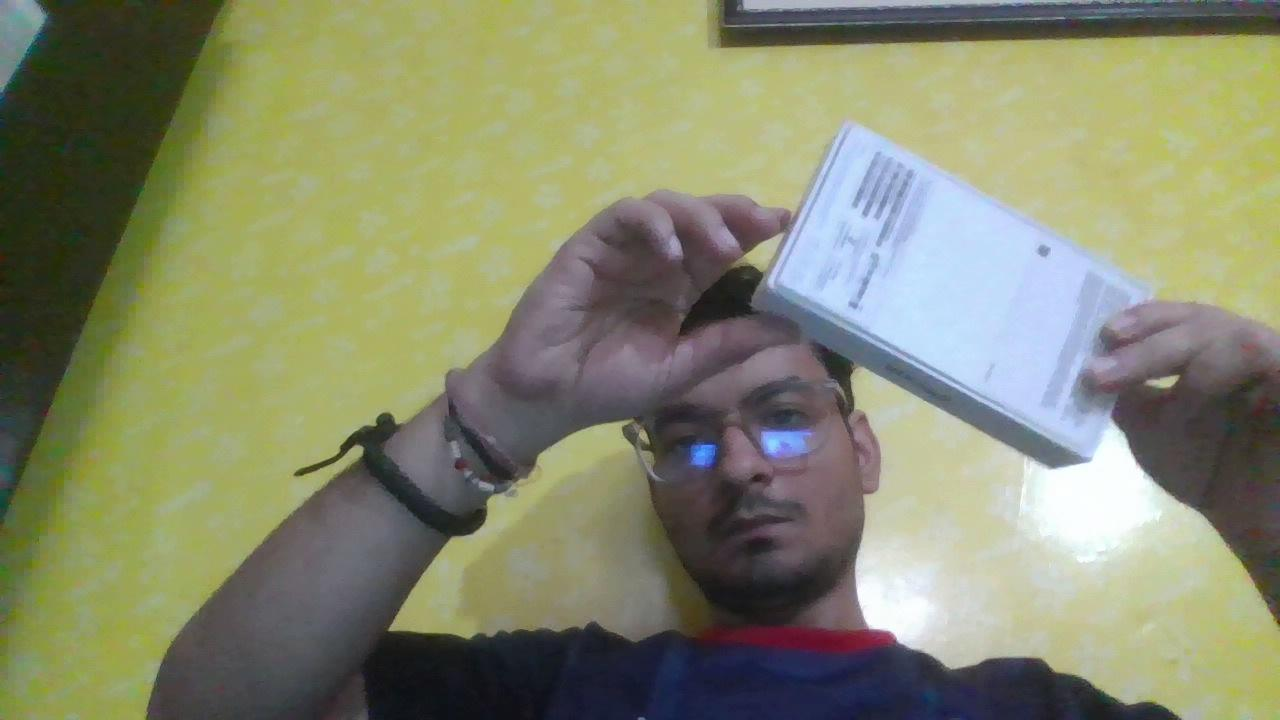Phone: (734, 106, 1170, 461)
